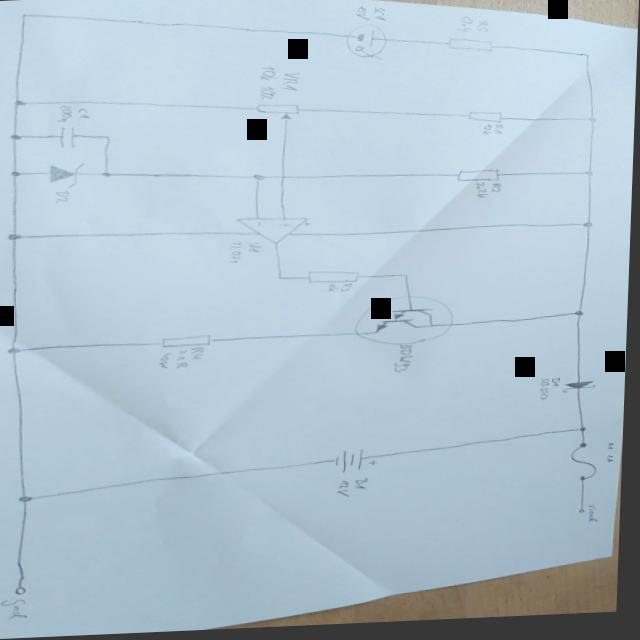capacitor: (57, 124, 83, 149)
crossover: (281, 175, 291, 181)
diode: (49, 161, 88, 189), (567, 383, 600, 396)
junction: (20, 492, 42, 504), (10, 345, 26, 354), (8, 231, 26, 239), (575, 313, 589, 322), (15, 97, 29, 106), (11, 132, 25, 140), (12, 168, 25, 176), (254, 175, 268, 182), (581, 429, 593, 437), (103, 170, 115, 178), (585, 225, 598, 232), (20, 11, 32, 17), (589, 120, 599, 127), (586, 174, 596, 180), (105, 134, 115, 140), (584, 57, 594, 62), (280, 277, 288, 282), (405, 276, 414, 280)
resistor: (257, 102, 304, 122), (448, 39, 496, 58), (309, 270, 365, 286), (163, 334, 219, 349), (458, 172, 503, 185), (469, 113, 506, 128)
source: (338, 450, 385, 476)
terminal: (16, 582, 37, 596), (582, 512, 590, 518)
text: (3, 596, 38, 621), (396, 346, 419, 376), (283, 72, 304, 94), (230, 241, 247, 265), (456, 18, 476, 37), (259, 66, 281, 83), (179, 349, 194, 370), (260, 86, 279, 102), (542, 381, 555, 404), (592, 507, 606, 528), (355, 7, 372, 24), (341, 482, 357, 500), (60, 104, 76, 122), (477, 185, 492, 204), (162, 352, 178, 369), (55, 189, 73, 204), (372, 8, 390, 23), (357, 479, 376, 493), (194, 347, 210, 362), (250, 242, 267, 254), (78, 107, 94, 119), (478, 23, 492, 36), (482, 127, 496, 139), (494, 127, 507, 139), (492, 186, 506, 197), (329, 285, 344, 294), (342, 285, 357, 294), (554, 381, 566, 391), (610, 446, 620, 455), (609, 459, 619, 468)
transistor: (357, 296, 460, 350)
